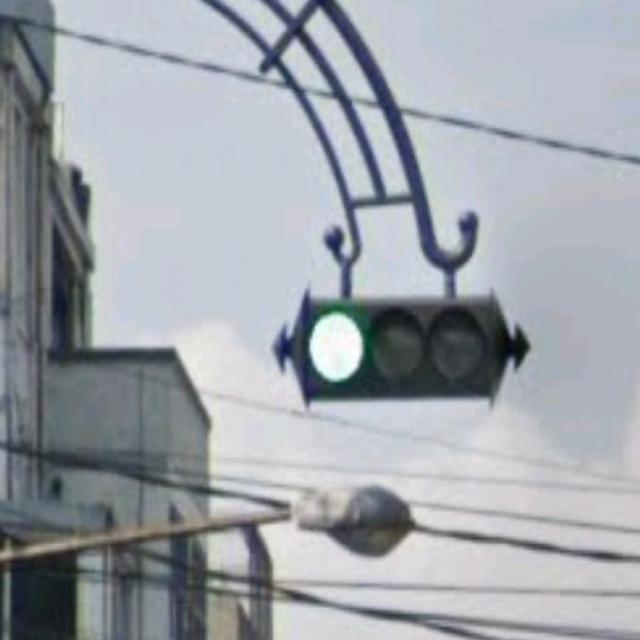green_light: (306, 292, 514, 400)
